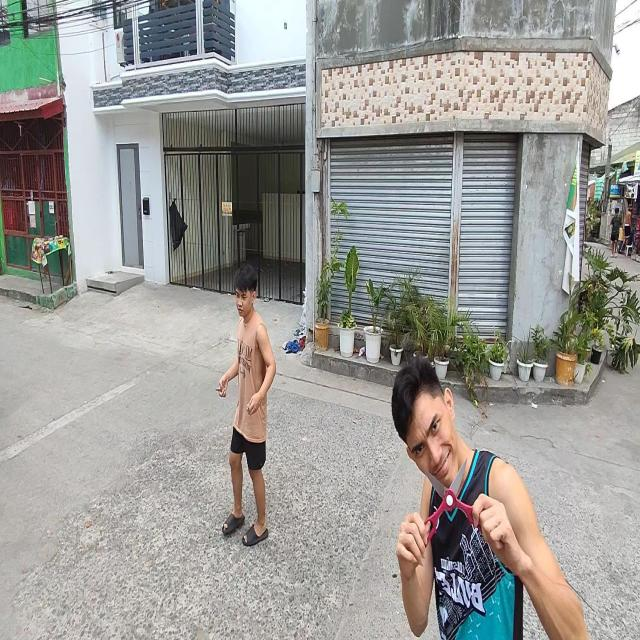scissor: (424, 455, 480, 541)
